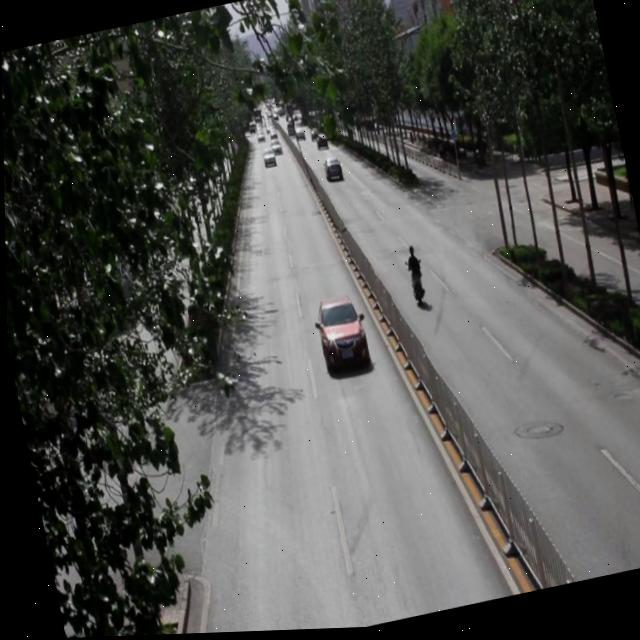car: (309, 293, 371, 379), (320, 157, 342, 183), (259, 149, 275, 171), (313, 134, 327, 152), (269, 139, 282, 156)
